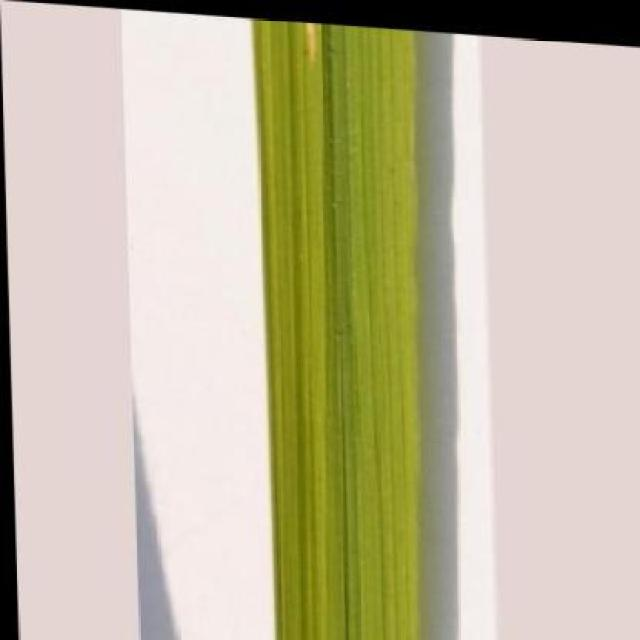Brown_Spot: (253, 15, 439, 640)
